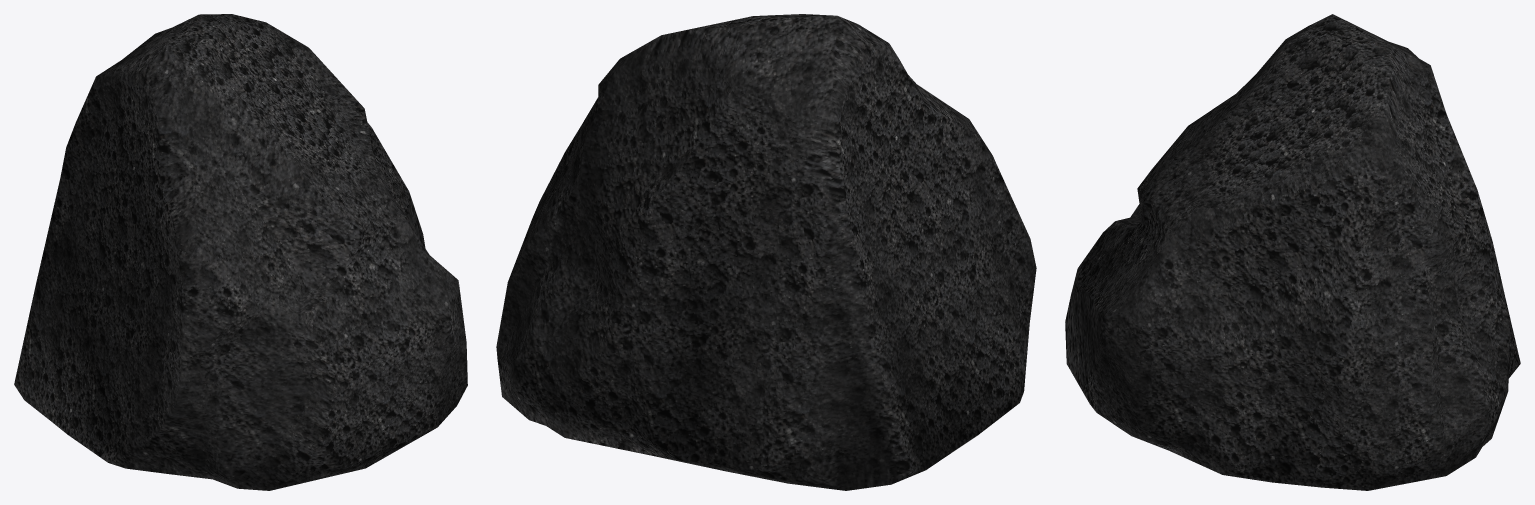
File: ArtistVolcanicRock01.fbx
The picture shows the model from 3 angles, left to right: view 1: azimuth 30°, elevation 25°; view 2: azimuth 150°, elevation 25°; view 3: azimuth 270°, elevation 25°; orthographic projection. The views are drawn at different scales.
Visible parts, largest first — view 1: ArtistVolcanicRock01_LOD0; view 2: ArtistVolcanicRock01_LOD0; view 3: ArtistVolcanicRock01_LOD0.
Part boxes in pixels (x1,y1,x2,y2): ArtistVolcanicRock01_LOD0: (14, 14, 467, 490); ArtistVolcanicRock01_LOD0: (496, 14, 1036, 490); ArtistVolcanicRock01_LOD0: (1065, 14, 1520, 490).
Size of what is drawn, in the model's own units: 2.19 by 1.94 by 2.31.
Materials: 1 (1 with a texture image).
